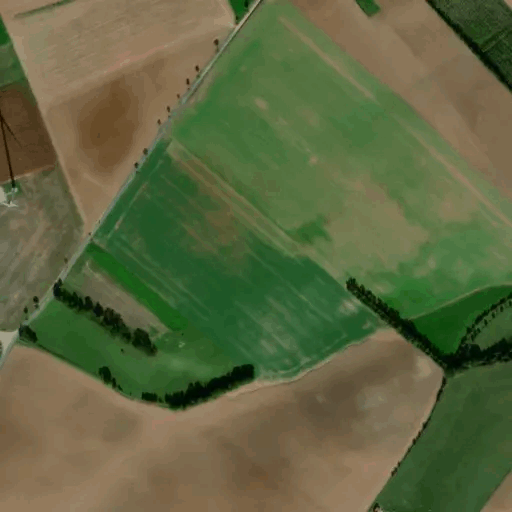wt: (1, 107, 25, 217)
